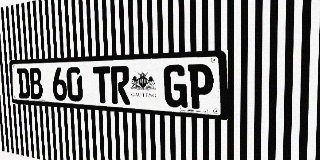0: (66, 67, 83, 102)
6: (52, 67, 67, 101)
B: (29, 68, 43, 99)
D: (17, 68, 30, 99)
G: (164, 64, 187, 108)
P: (188, 64, 214, 110)
R: (111, 66, 130, 105)
T: (93, 66, 111, 104)
